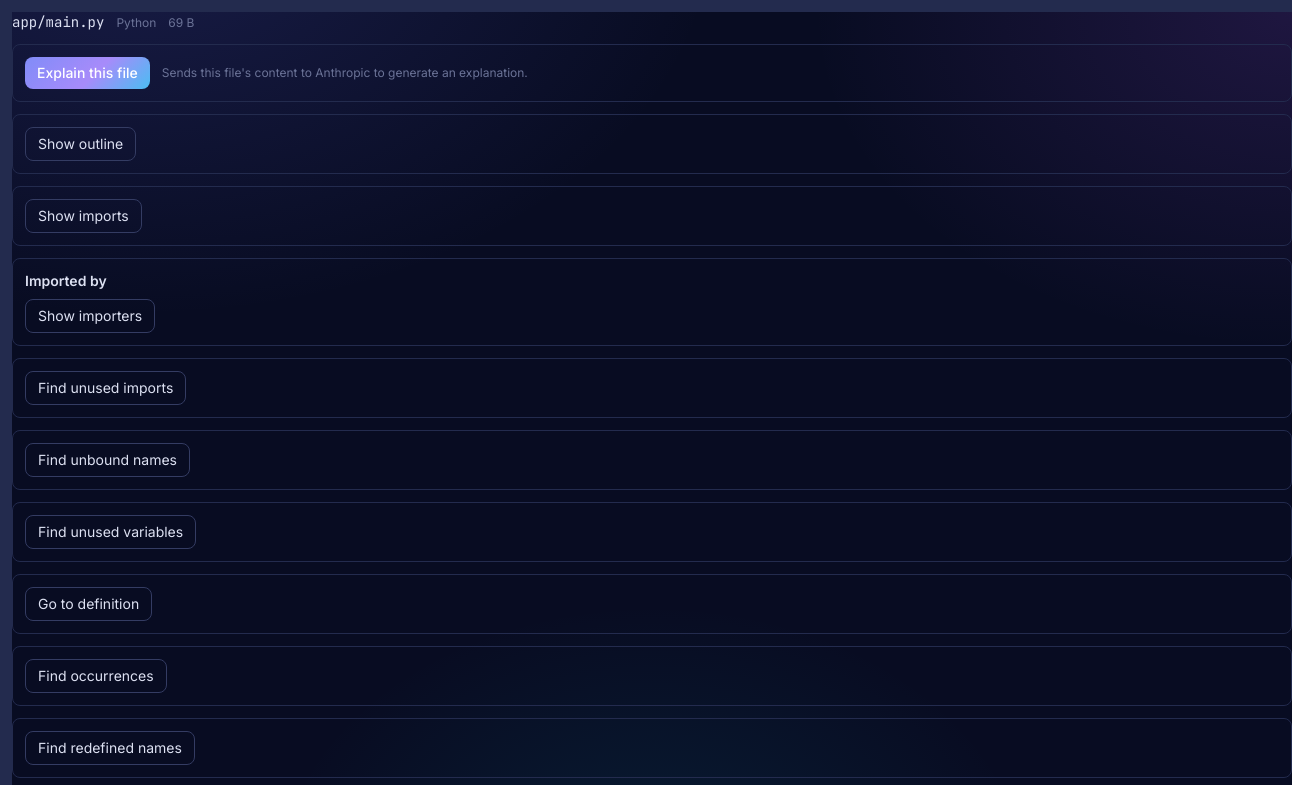
it: CodeDefinition results › shows the truncated notice when the server says so
Step 1. Click the button "Go to definition" → (89, 604), box [25, 587, 152, 621]
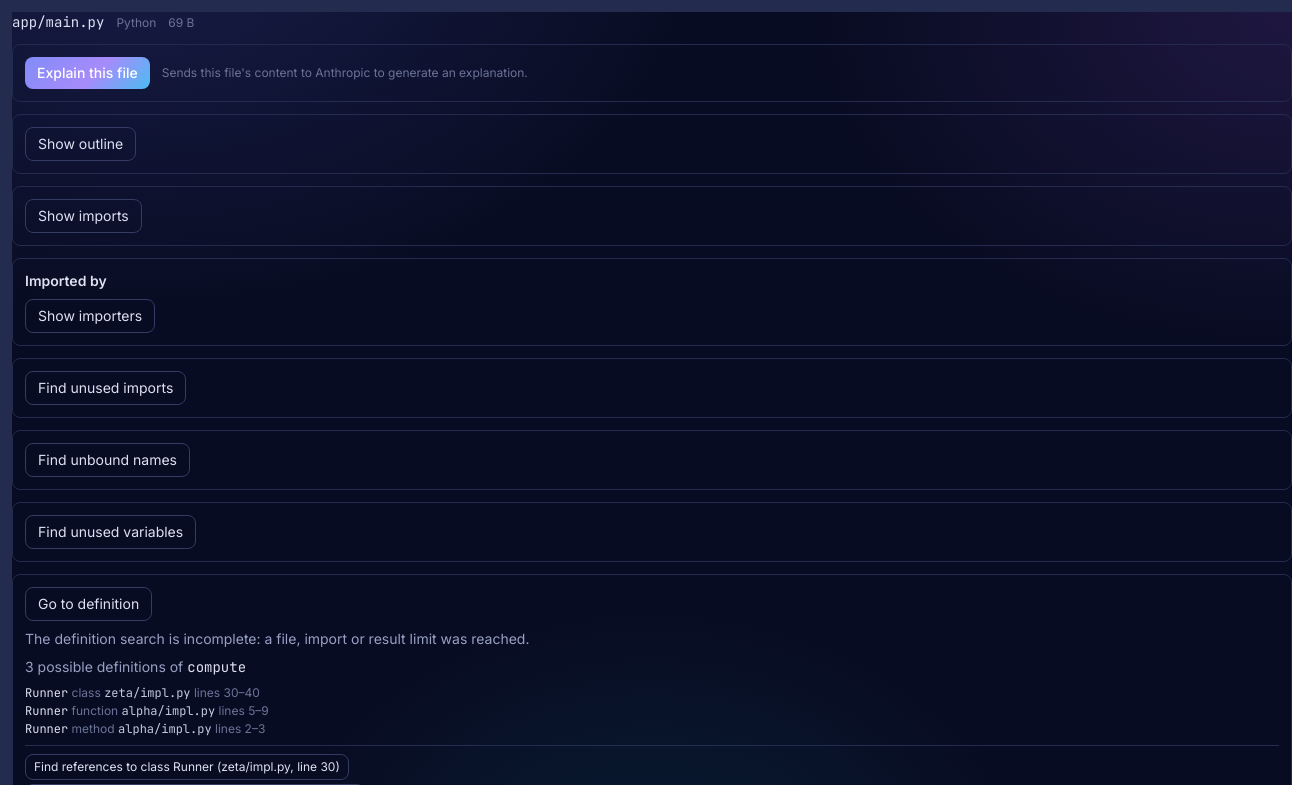
Check: the text "The definition search is incomplete: a file, import or result limit was reached." is shown, box [25, 630, 530, 647]
Check: the number of list items with test id "definition" is 3, box [25, 685, 260, 701]; [25, 703, 269, 719]; [25, 721, 265, 737]
